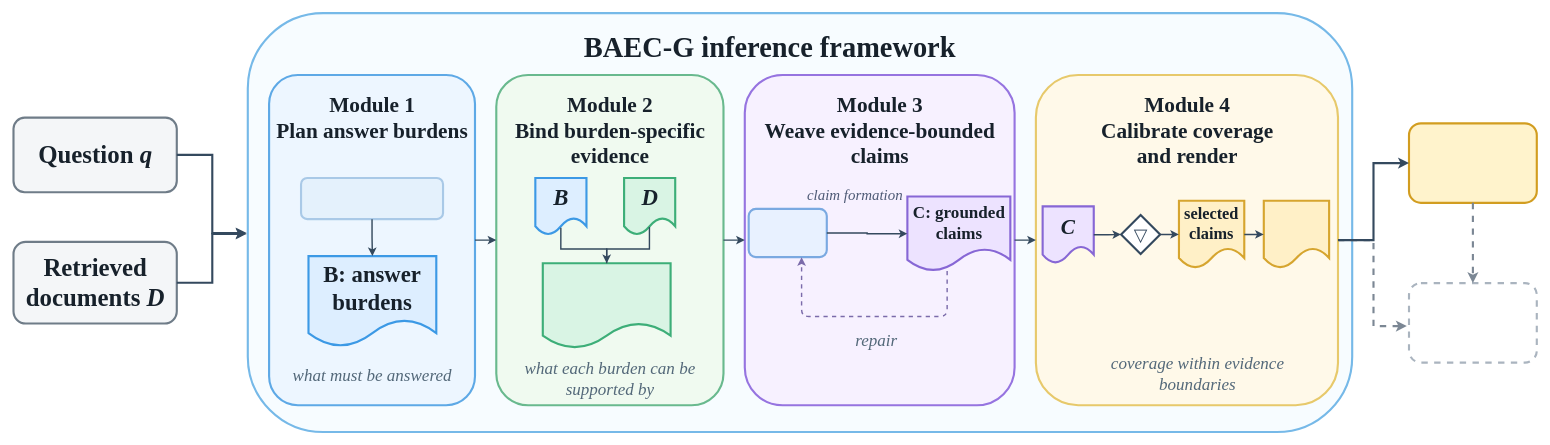
Some shapes in this 1550 by 445 pixel diagram are drawn without their labels. Here are the shapes that lost their labels. From the top down, the centre of each, then its label:
At (1473,163): "Final cited answer y".
At (372,198): "Question analysis".
At (787,232): "B + E".
At (1296,234): "cited answer y".
At (606,305): "E : evidence contracts".
At (1473,322): "Uncovered burdens".
